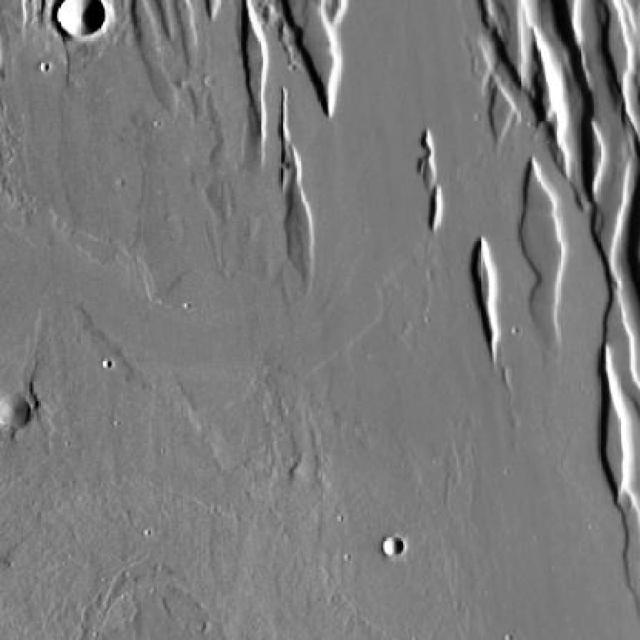crater: (60, 0, 104, 38), (0, 398, 25, 436), (385, 538, 404, 556)
